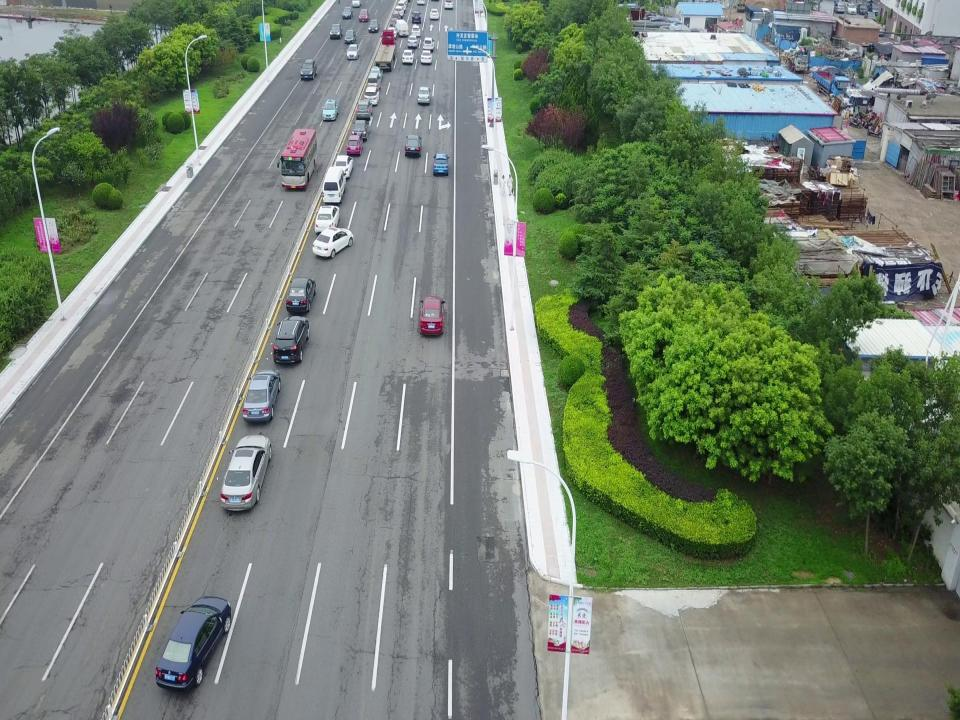bus: (276, 128, 318, 189)
car: (154, 595, 231, 691), (220, 434, 272, 512), (242, 369, 281, 422), (272, 315, 310, 363), (312, 228, 354, 258), (418, 296, 446, 335), (286, 277, 316, 313), (314, 205, 340, 234), (333, 154, 353, 178), (817, 65, 847, 80), (404, 134, 422, 158), (432, 153, 450, 176), (351, 120, 370, 141), (300, 59, 318, 81), (321, 99, 339, 121), (346, 135, 363, 156), (356, 100, 372, 120), (364, 87, 380, 106), (417, 85, 431, 104), (422, 36, 435, 53), (329, 24, 343, 39), (346, 45, 360, 59), (369, 67, 383, 81), (402, 49, 414, 64), (344, 29, 356, 44), (408, 35, 420, 49), (420, 51, 432, 64), (341, 6, 353, 19), (358, 9, 370, 22), (368, 19, 379, 33), (411, 10, 421, 23), (386, 26, 396, 39), (832, 3, 845, 13), (846, 3, 856, 15), (429, 9, 439, 20), (412, 26, 420, 38), (443, 0, 453, 9)
truck: (812, 70, 851, 100), (373, 29, 397, 72), (784, 48, 809, 73)
van: (322, 166, 346, 203), (395, 19, 409, 38), (367, 73, 381, 90)
